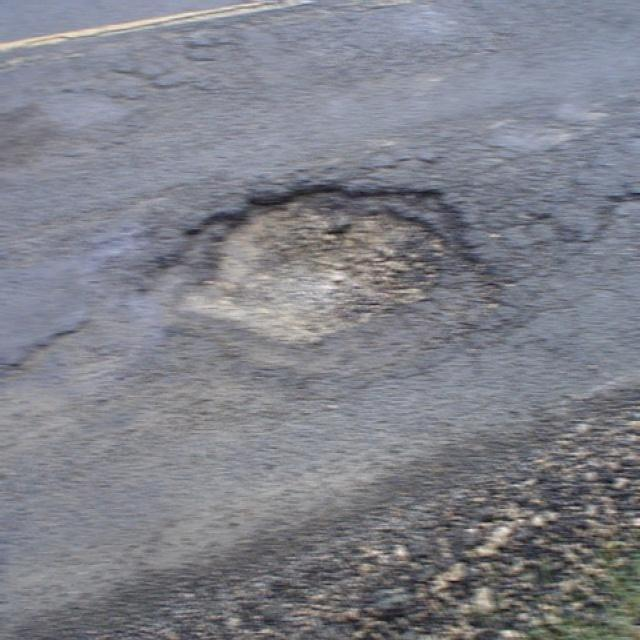Pothole: (160, 167, 474, 387)
